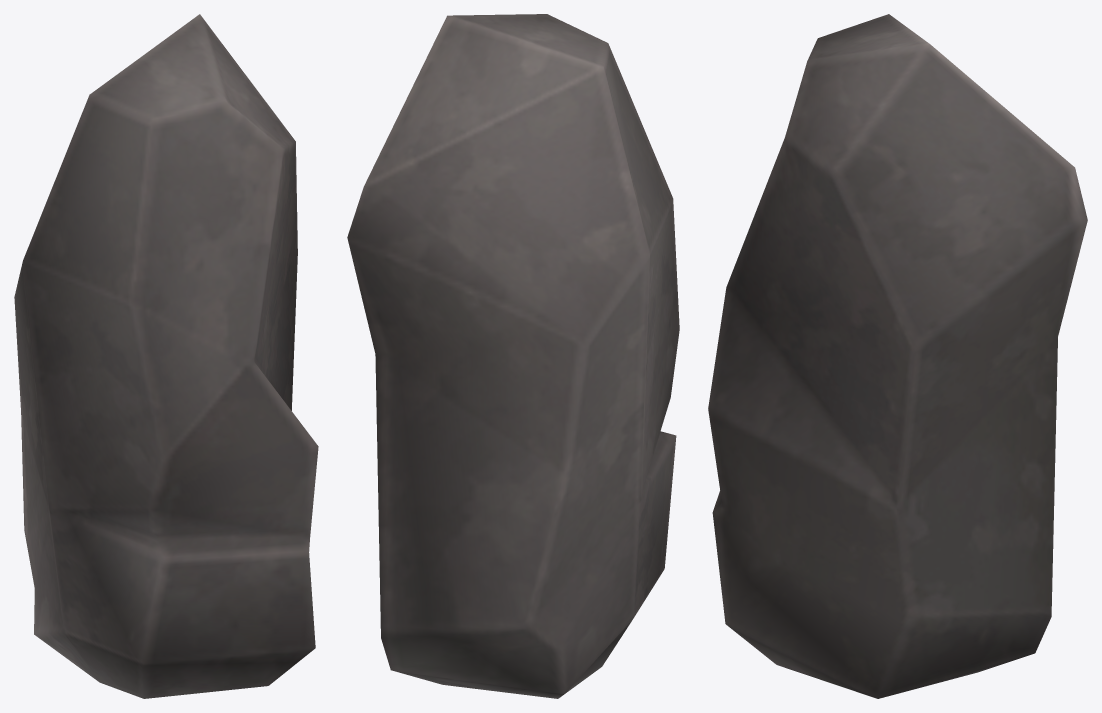
Rendered from obj_stone05.gltf.
3 renders of one model, left to right at view 1: azimuth 30°, elevation 25°; view 2: azimuth 150°, elevation 25°; view 3: azimuth 270°, elevation 25°, orthographic. The views are drawn at different scales.
Parts seen in each view (by area): view 1: obj_stone05; view 2: obj_stone05; view 3: obj_stone05.
Part boxes in pixels (box(x1,y1,x2,y2)): obj_stone05: box(14, 14, 318, 698); obj_stone05: box(347, 14, 679, 698); obj_stone05: box(708, 14, 1087, 698).
Size of what is drawn, in the model's own units: 1.33 by 2.89 by 1.56.
Materials: 1 (1 with a texture image).
